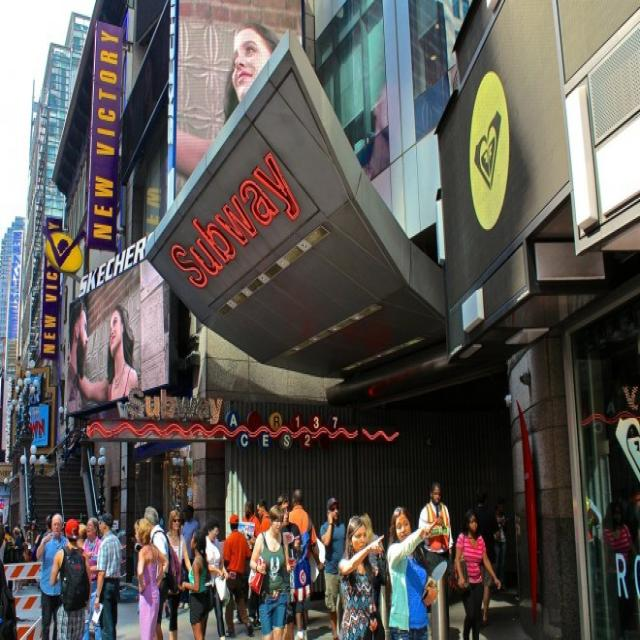body: (64, 293, 145, 411), (582, 479, 639, 639), (220, 15, 289, 130), (384, 504, 441, 638), (453, 505, 502, 638), (246, 502, 293, 639), (337, 515, 386, 640), (288, 488, 325, 640), (48, 516, 92, 639), (142, 504, 182, 638), (35, 510, 73, 640), (132, 515, 171, 638), (178, 526, 218, 639), (221, 512, 254, 640), (319, 495, 348, 640), (276, 492, 304, 640), (92, 510, 123, 640), (417, 480, 455, 574), (165, 509, 192, 640), (201, 519, 230, 640), (471, 492, 496, 626), (358, 512, 389, 616), (80, 515, 103, 640), (177, 504, 200, 612), (0, 519, 19, 638), (18, 514, 54, 568), (491, 502, 510, 595), (240, 499, 262, 553), (1, 522, 16, 566), (255, 498, 272, 535), (76, 512, 90, 553), (12, 526, 23, 546)
